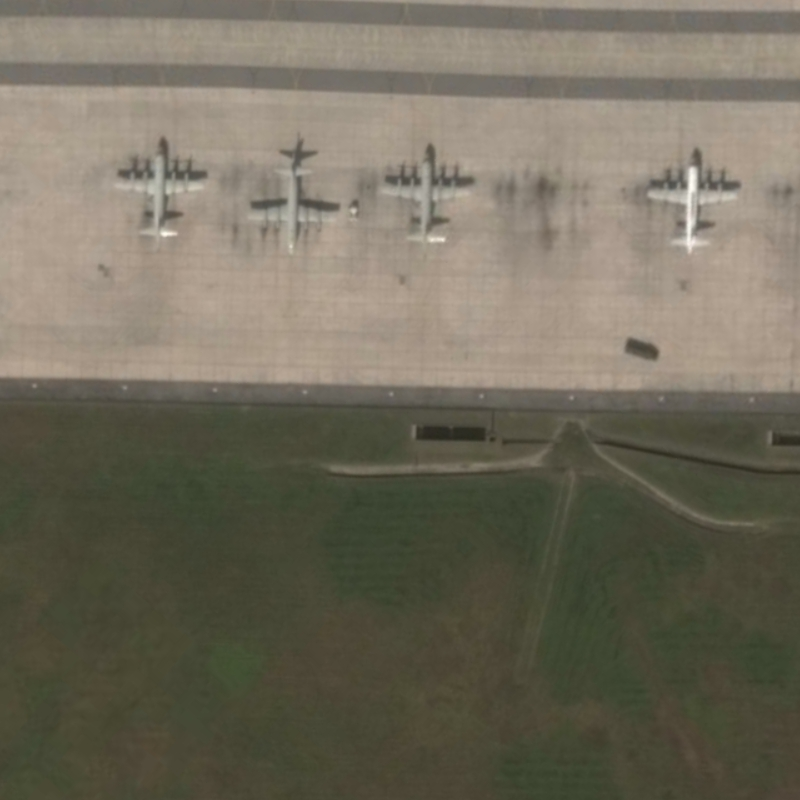A9: (104, 133, 212, 249), (640, 146, 745, 262), (371, 140, 477, 251), (240, 155, 345, 258)
